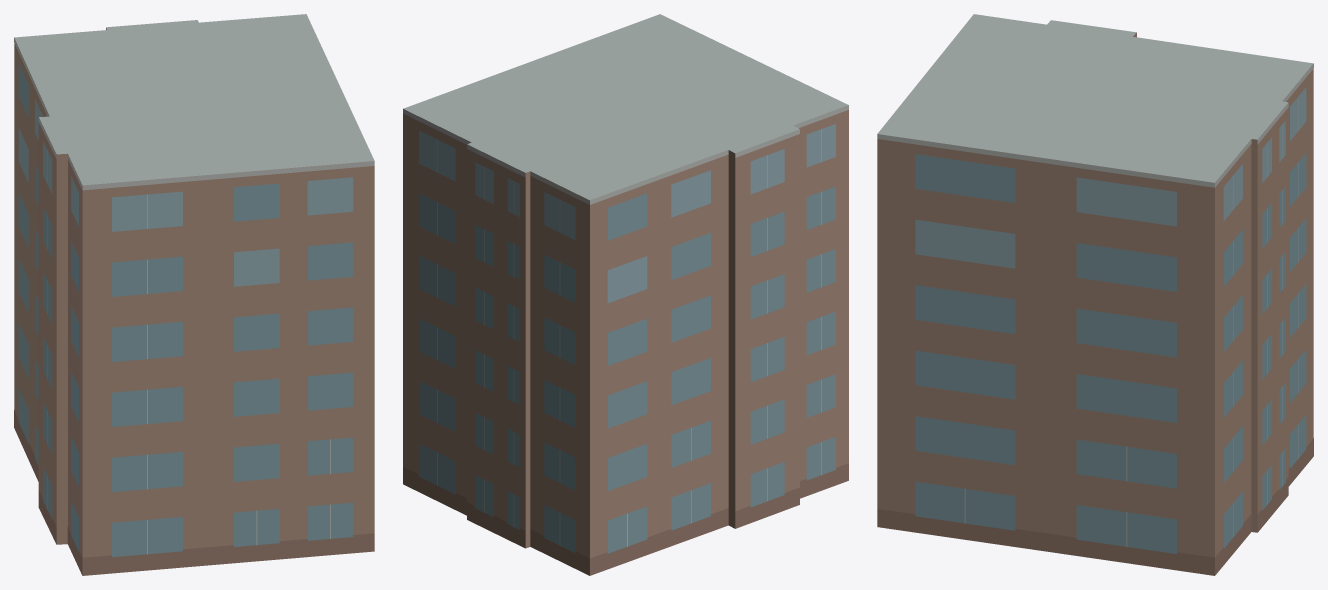
File: survey-upis-32890075.glb
3 views of the same model, side by side, from view 1: azimuth 30°, elevation 25°; view 2: azimuth 150°, elevation 25°; view 3: azimuth 270°, elevation 25° (orthographic). The views are drawn at different scales.
Parts seen in each view (by area): view 1: survey-upis-32890075.tmp; view 2: survey-upis-32890075.tmp; view 3: survey-upis-32890075.tmp.
Boxes of the visible parts, <box> form: survey-upis-32890075.tmp: <box>14,14,374,575</box>; survey-upis-32890075.tmp: <box>403,14,848,575</box>; survey-upis-32890075.tmp: <box>877,14,1313,575</box>.
Size of the model in its own units: 18.07 by 19.6 by 19.74.
